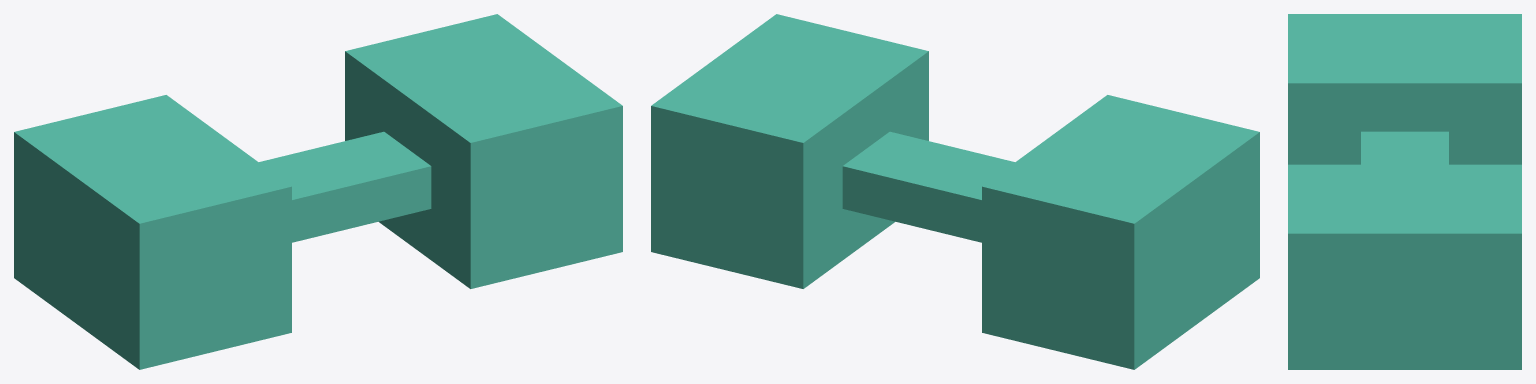
The model's file is pesita.obj.
3 renders of one model, left to right at view 1: azimuth 30°, elevation 25°; view 2: azimuth 150°, elevation 25°; view 3: azimuth 270°, elevation 25°, orthographic. The views are drawn at different scales.
Parts seen in each view (by area): view 1: pCube9; view 2: pCube9; view 3: pCube9.
Part boxes in pixels (x1=…): pCube9: x1=14, y1=14, x2=622, y2=369; pCube9: x1=651, y1=14, x2=1259, y2=369; pCube9: x1=1288, y1=14, x2=1521, y2=369.
Bounding box in the file's own units: 1.64 × 0.4752 × 0.7395.
Materials: 1 (1 with a texture image).
